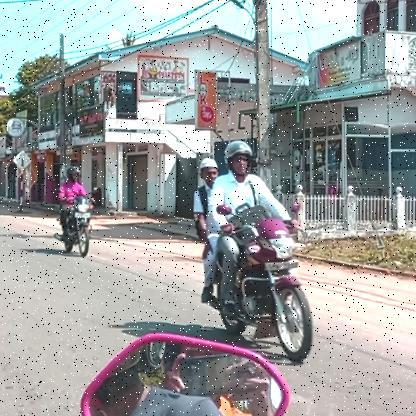motorcycle: (196, 200, 324, 364), (53, 194, 102, 258)
